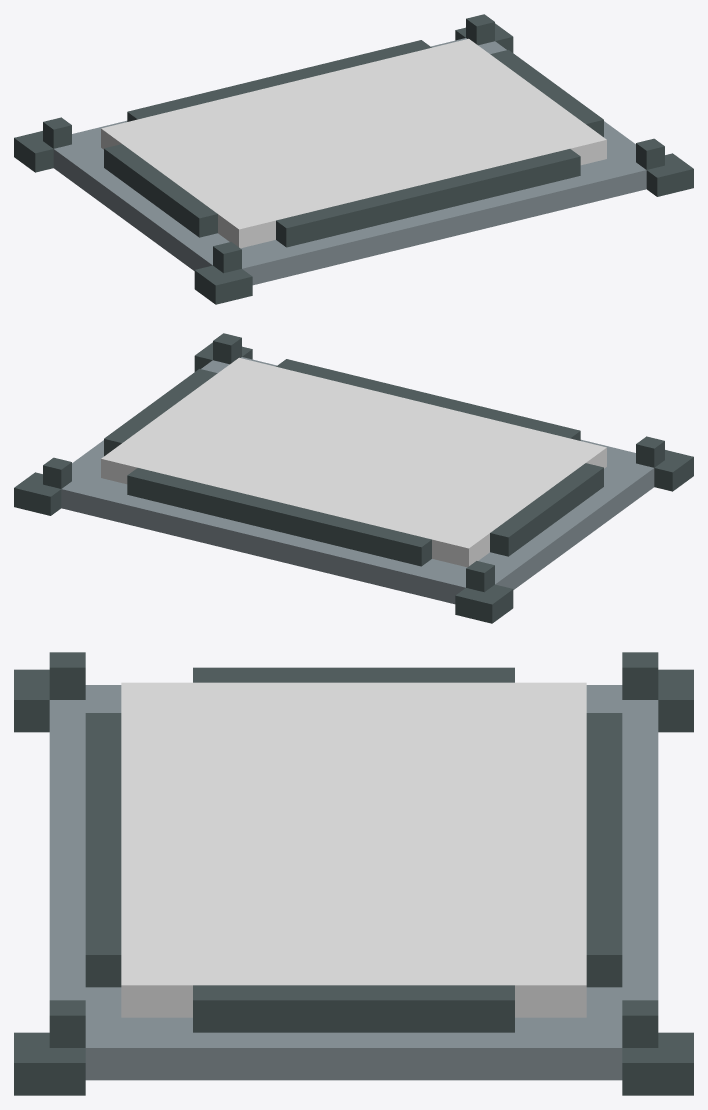
Rendered from White puddle.obj.
3 renders of one model, top to bottom at view 1: azimuth 30°, elevation 25°; view 2: azimuth 150°, elevation 25°; view 3: azimuth 270°, elevation 25°, orthographic. The views are drawn at different scales.
Bounding box in the file's own units: 2.6 × 0.2 × 1.9.
Materials: 1 (1 with a texture image).
